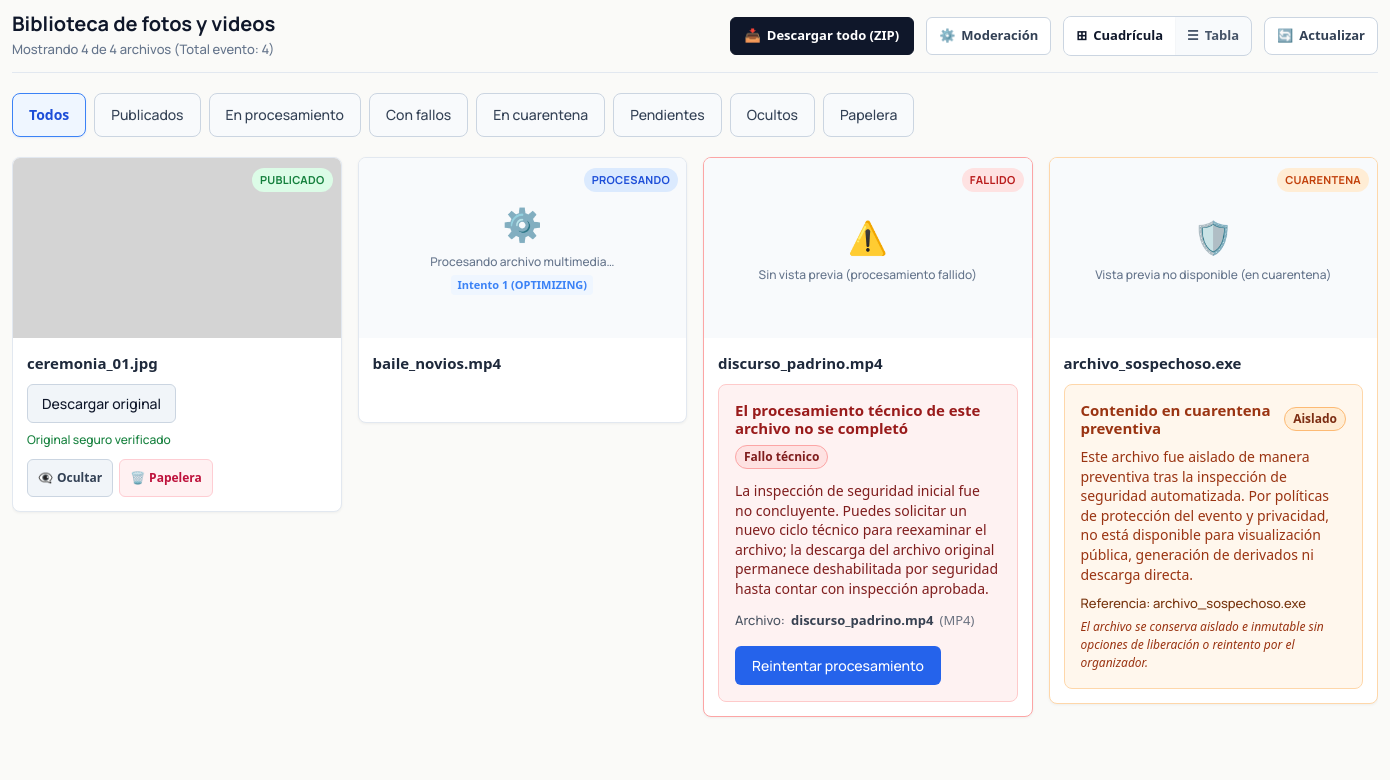
OrganizerMediaLibraryComponent & Media Integration (EL-TK-100) › Escenario 4: Conmuta a vista de tabla accesible (OrganizerMediaTable) y renderiza metadatos y acciones
The image size is (1390, 780).
Click the button with class "btn-view" showing "☰ Tabla" at (1213, 36), box [1175,17,1251,55]
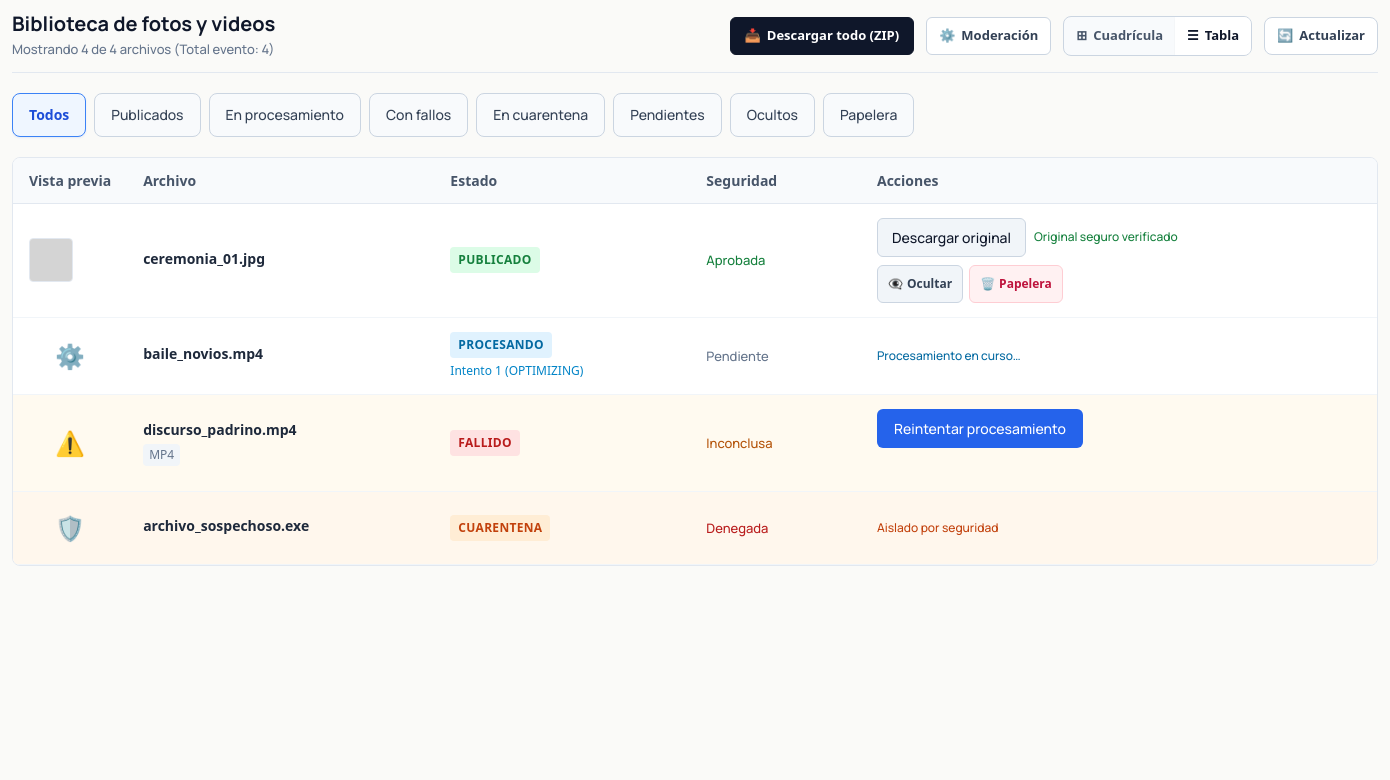
expect the element showing "Reintentar procesamiento" is shown: met, box [877,408,1083,448]
expect the element that starts with "Vista previa" is shown: met, box [12,156,1378,566]
expect the table is shown: met, box [13,158,1377,564]
